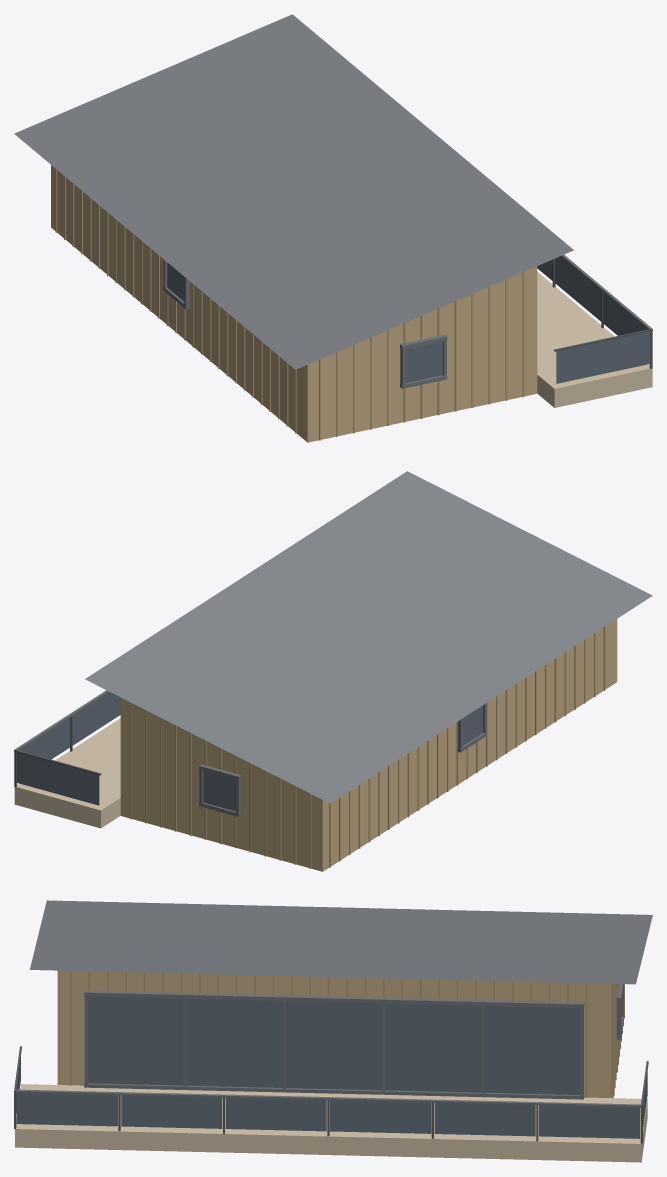
3 views of the same model, one above another, from view 1: azimuth 30°, elevation 25°; view 2: azimuth 150°, elevation 25°; view 3: azimuth 270°, elevation 25° (orthographic). The views are drawn at different scales.
Visible parts, largest first — view 1: slate, door_wood, door_wood_p, larch, window_glass_007, slate_dk, window_glass_002, window_glass_014, window_glass_001, pipe; view 2: slate, door_wood, door_wood_p, larch, window_glass_008, slate_dk, window_glass_005, window_glass_006, window_glass_015; view 3: slate, larch, door_wood, slate_dk, window_glass_012, window_glass_013, window_glass_009, window_glass_011, window_glass_010, window_glass_001, window_glass_002, window_glass_003 (+5 smaller).
Boxes of the visible parts, x1,y1,x2,y2 form: slate: [14, 14, 573, 369]; door_wood: [51, 165, 537, 442]; door_wood_p: [55, 169, 524, 440]; larch: [537, 272, 652, 407]; window_glass_007: [556, 331, 650, 383]; slate_dk: [163, 255, 652, 388]; window_glass_002: [555, 256, 601, 321]; window_glass_014: [405, 341, 442, 382]; window_glass_001: [603, 292, 647, 335]; pipe: [552, 258, 652, 368]; slate: [85, 471, 652, 803]; door_wood: [120, 619, 617, 871]; door_wood_p: [130, 627, 605, 868]; larch: [14, 718, 120, 828]; window_glass_008: [16, 752, 99, 805]; slate_dk: [14, 690, 486, 816]; window_glass_005: [72, 692, 120, 745]; window_glass_006: [19, 718, 70, 759]; window_glass_015: [203, 770, 235, 811]; slate: [30, 900, 652, 984]; larch: [15, 1084, 647, 1162]; door_wood: [58, 970, 611, 1097]; slate_dk: [15, 984, 641, 1107]; window_glass_012: [385, 1003, 481, 1092]; window_glass_013: [484, 1006, 580, 1094]; window_glass_009: [88, 996, 183, 1085]; window_glass_011: [286, 1001, 381, 1090]; window_glass_010: [187, 998, 282, 1087]; window_glass_001: [16, 1092, 117, 1126]; window_glass_002: [121, 1095, 222, 1128]; window_glass_003: [225, 1097, 326, 1131].
Bounding box in the file's own units: 10.18 × 3.88 × 15.59.
